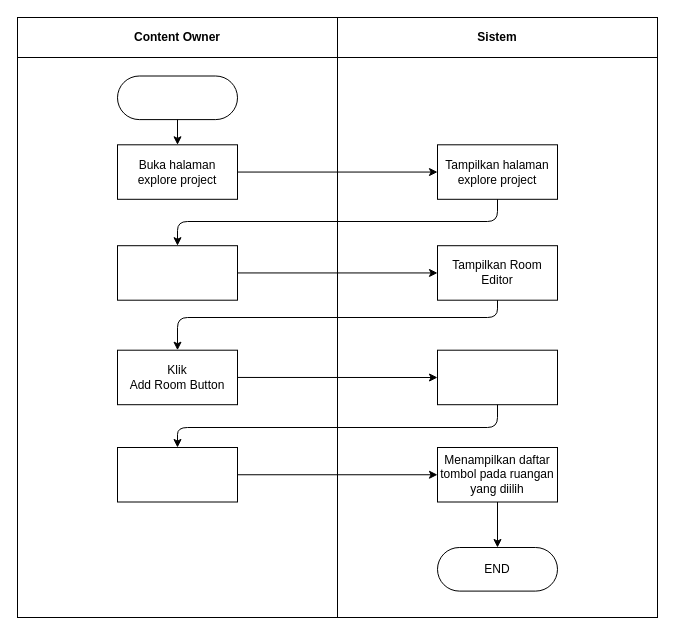
The diagram is 675 pixels wide and 635 high, and some of its shapes have lost their labels. Each missing label, with the centre of its shape:
"Klik ruangan yang dipilih" belongs at point 177,272.
"Pilih ruang tujuan dan letak tombol." belongs at point 177,474.
"START" belongs at point 177,97.
"Tampilkan Popup daftar ruang tujuan dan posisi tombol" belongs at point 497,377.
